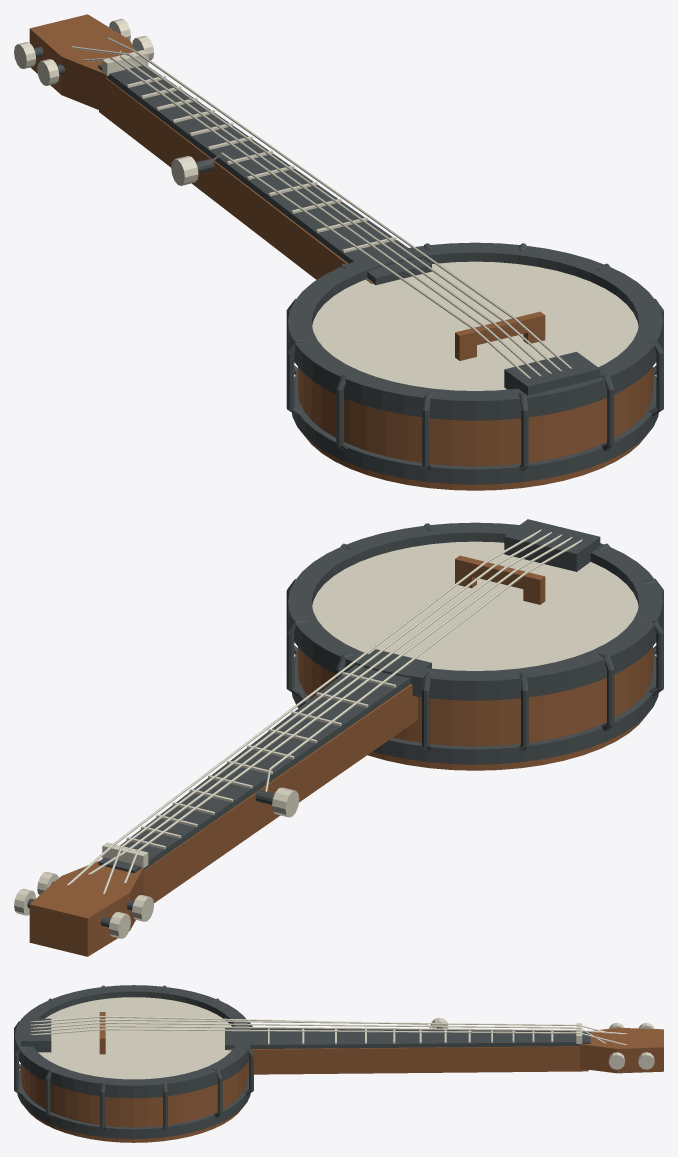
3 views of the same model, one above another, from view 1: azimuth 30°, elevation 25°; view 2: azimuth 150°, elevation 25°; view 3: azimuth 270°, elevation 25° (orthographic). The views are drawn at different scales.
Parts seen in each view (by area): view 1: WholeFiniteTopMembrane, WholeUpperOpenTensionHoop, WholeOpenBackCircularTimberPotGroundSole, WholeLongFiveStringFingerboard, WholeLongTaperedNeckAndHeel, WholeLowerOpenBand, WholeFacetedPeghead, WholeFixedTailAnchor, WholeTwoFootBridgeWithOpenArch, WholeFixedLongString_2, WholeFixedLongString_3, WholeFixedLongString_0 (+2 smaller); view 2: WholeFiniteTopMembrane, WholeUpperOpenTensionHoop, WholeOpenBackCircularTimberPotGroundSole, WholeLongTaperedNeckAndHeel, WholeLongFiveStringFingerboard, WholeFacetedPeghead, WholeLowerOpenBand, WholeFixedTailAnchor, WholeTwoFootBridgeWithOpenArch, WholeFixedLongString_3, WholeFixedLongString_2, WholeFixedLongString_1 (+5 smaller); view 3: WholeFiniteTopMembrane, WholeLongTaperedNeckAndHeel, WholeUpperOpenTensionHoop, WholeOpenBackCircularTimberPotGroundSole, WholeLongFiveStringFingerboard, WholeFacetedPeghead, WholeLowerOpenBand, WholeFixedLongString_2, WholeFixedLongString_3, WholeFixedLongString_1, WholeFixedLongString_0, WholeFixedTailAnchor (+6 smaller).
Part boxes in pixels (x1,y1,x2,y2): WholeFiniteTopMembrane: (312, 261, 638, 390); WholeUpperOpenTensionHoop: (288, 242, 662, 420); WholeOpenBackCircularTimberPotGroundSole: (298, 366, 652, 490); WholeLongFiveStringFingerboard: (98, 64, 431, 285); WholeLongTaperedNeckAndHeel: (99, 78, 373, 283); WholeLowerOpenBand: (292, 373, 658, 484); WholeFacetedPeghead: (29, 14, 135, 112); WholeFixedTailAnchor: (504, 351, 600, 395); WholeTwoFootBridgeWithOpenArch: (455, 311, 545, 360); WholeFixedLongString_2: (71, 46, 561, 371); WholeFixedLongString_3: (108, 37, 571, 368); WholeFixedLongString_0: (83, 57, 541, 376); WholeFiniteTopMembrane: (312, 541, 638, 670); WholeUpperOpenTensionHoop: (288, 522, 662, 700); WholeOpenBackCircularTimberPotGroundSole: (298, 646, 652, 770); WholeLongTaperedNeckAndHeel: (143, 684, 417, 902); WholeLongFiveStringFingerboard: (98, 649, 431, 873); WholeFacetedPeghead: (29, 860, 143, 956); WholeLowerOpenBand: (292, 653, 658, 764); WholeFixedTailAnchor: (504, 519, 600, 571); WholeTwoFootBridgeWithOpenArch: (455, 555, 545, 604); WholeFixedLongString_3: (67, 529, 541, 885); WholeFixedLongString_2: (103, 532, 551, 893); WholeFixedLongString_1: (88, 534, 561, 874); WholeFiniteTopMembrane: (38, 997, 231, 1079); WholeLongTaperedNeckAndHeel: (228, 1046, 588, 1074); WholeUpperOpenTensionHoop: (15, 985, 253, 1098); WholeOpenBackCircularTimberPotGroundSole: (21, 1064, 246, 1142); WholeLongFiveStringFingerboard: (225, 1028, 590, 1049); WholeFacetedPeghead: (579, 1027, 663, 1073); WholeLowerOpenBand: (17, 1068, 250, 1138); WholeFixedLongString_2: (30, 1025, 626, 1034); WholeFixedLongString_3: (30, 1028, 626, 1044); WholeFixedLongString_1: (30, 1022, 605, 1043); WholeFixedLongString_0: (31, 1019, 604, 1031); WholeFixedTailAnchor: (21, 1018, 51, 1052).
Size of the model in its own units: 0.3828 by 0.1253 by 1.04.
